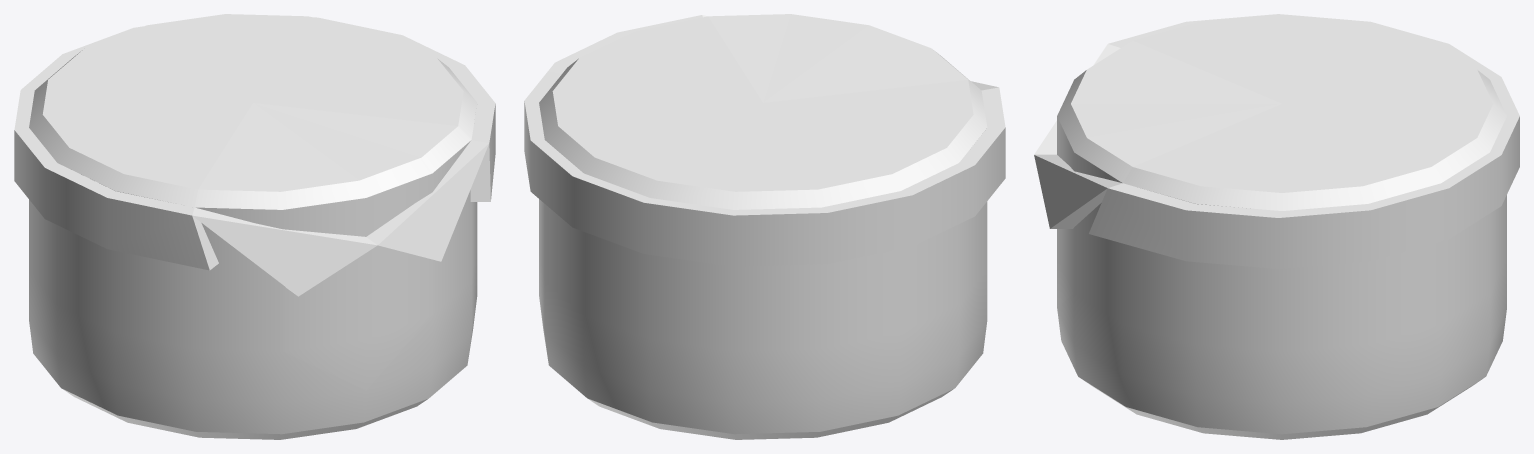
The model's file is Body_Cooking_Chef_Dress_02.fbx.
3 views of the same model, side by side, from view 1: azimuth 30°, elevation 25°; view 2: azimuth 150°, elevation 25°; view 3: azimuth 270°, elevation 25° (orthographic).
Visible parts, largest first — view 1: Body_Cooking_Chef_Dress_02; view 2: Body_Cooking_Chef_Dress_02; view 3: Body_Cooking_Chef_Dress_02.
Part boxes in pixels (x1,y1,x2,y2): Body_Cooking_Chef_Dress_02: (14, 14, 495, 439); Body_Cooking_Chef_Dress_02: (524, 14, 1005, 439); Body_Cooking_Chef_Dress_02: (1034, 14, 1519, 439).
Size of the model in its own units: 107 by 61.13 by 108.
